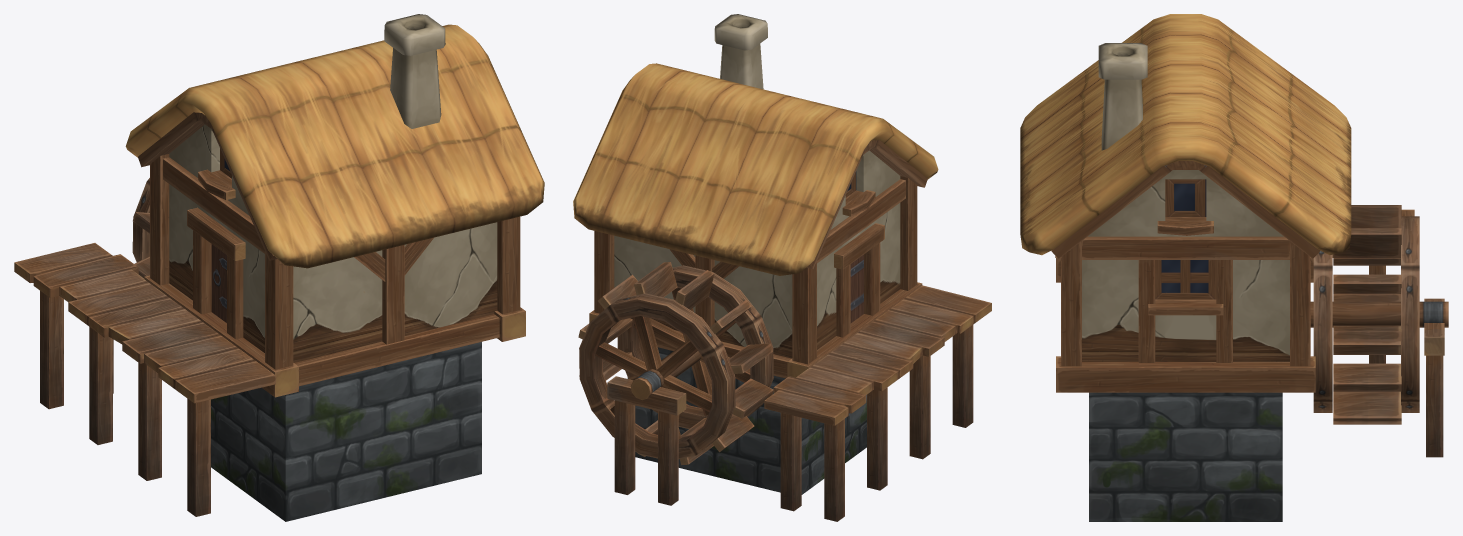
Rendered from Watermill.fbx.
3 views of the same model, side by side, from view 1: azimuth 30°, elevation 25°; view 2: azimuth 150°, elevation 25°; view 3: azimuth 270°, elevation 25° (orthographic). The views are drawn at different scales.
Visible parts, largest first — view 1: Watermill1, Wheel; view 2: Watermill1, Wheel; view 3: Watermill1, Wheel.
Part boxes in pixels (left/top/right/bottom): Watermill1: left=14, top=14, right=544, bottom=521; Wheel: left=132, top=178, right=149, bottom=278; Watermill1: left=573, top=14, right=991, bottom=521; Wheel: left=578, top=262, right=773, bottom=465; Watermill1: left=1020, top=14, right=1444, bottom=521; Wheel: left=1310, top=205, right=1448, bottom=424.
Bounding box in the file's own units: 245 × 305 × 265.
